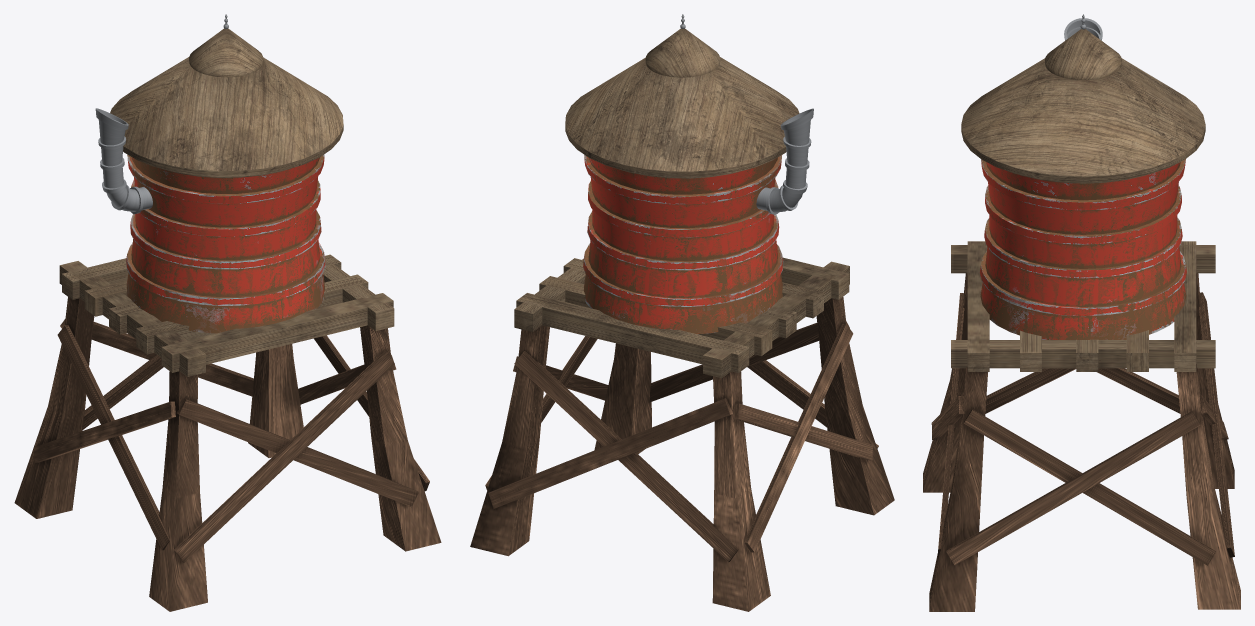
File: Togman.fbx
3 renders of one model, left to right at view 1: azimuth 30°, elevation 25°; view 2: azimuth 150°, elevation 25°; view 3: azimuth 270°, elevation 25°, orthographic. The views are drawn at different scales.
Parts seen in each view (by area): view 1: Togman; view 2: Togman; view 3: Togman.
Boxes of the visible parts, x1,y1,x2,y2 form: Togman: (14, 14, 441, 611); Togman: (470, 14, 894, 611); Togman: (923, 14, 1240, 611).
Bounding box in the file's own units: 694 × 1207 × 660.
1 material, 1 textured.
